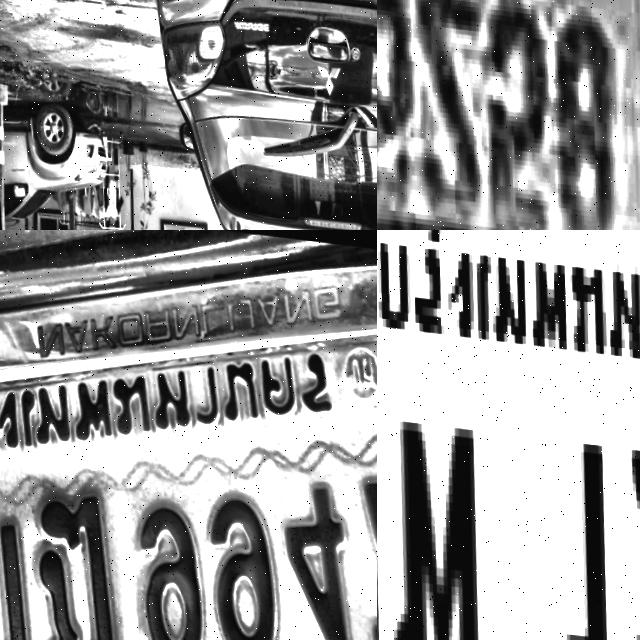license-plate: (0, 230, 377, 640), (377, 230, 640, 640), (377, 0, 640, 230)
